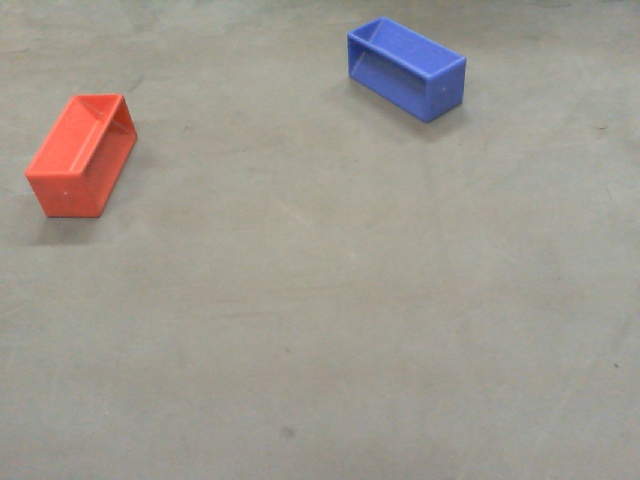BlueSample: (346, 14, 472, 129)
RedSample: (24, 86, 140, 228)
